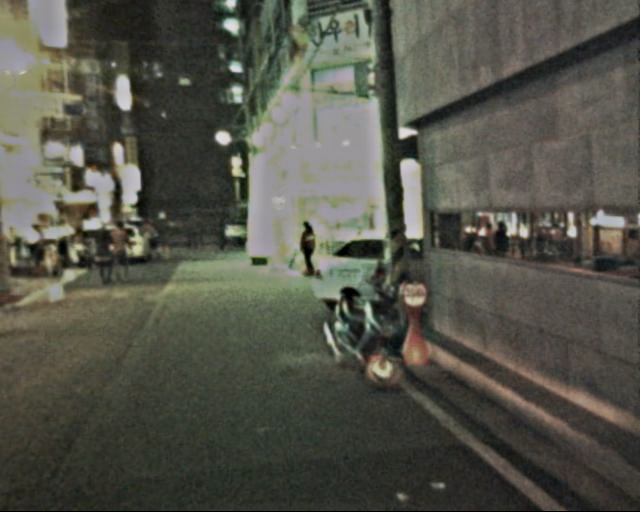person: (109, 220, 138, 284), (91, 222, 118, 283), (297, 219, 324, 278), (149, 207, 174, 262), (134, 215, 157, 262), (181, 210, 199, 252), (210, 214, 226, 254)
